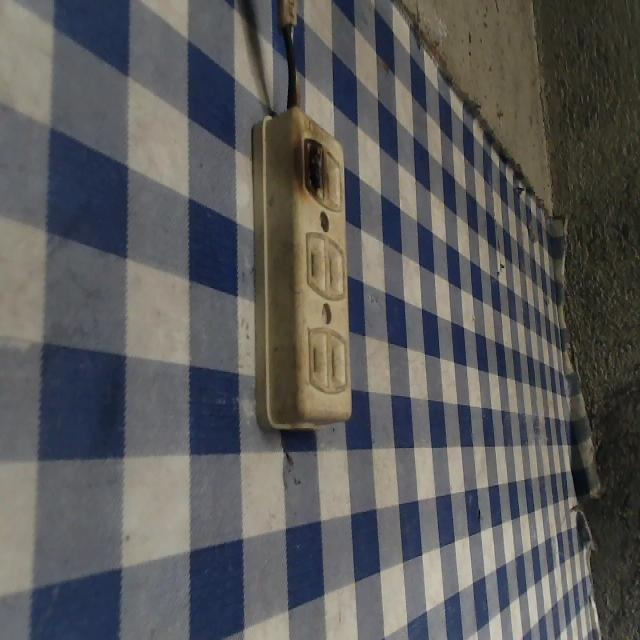-: (296, 132, 330, 203)
